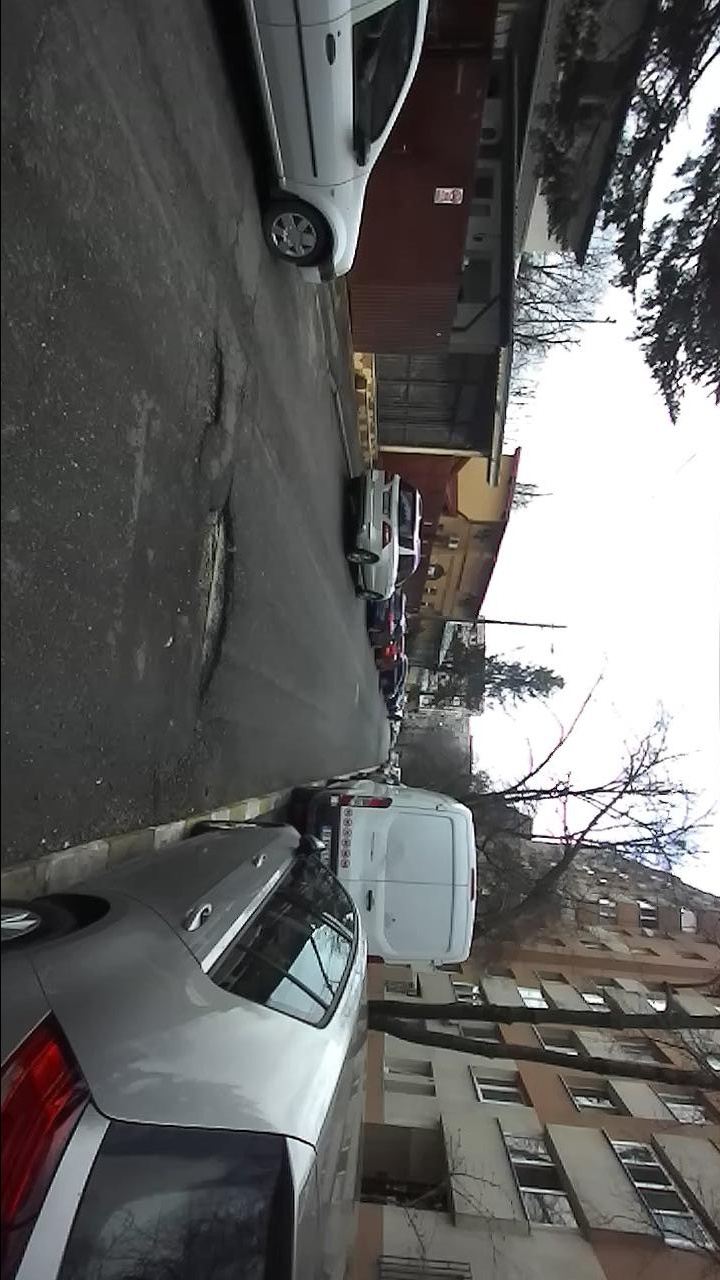pothole: (185, 474, 243, 719), (192, 327, 227, 472)
